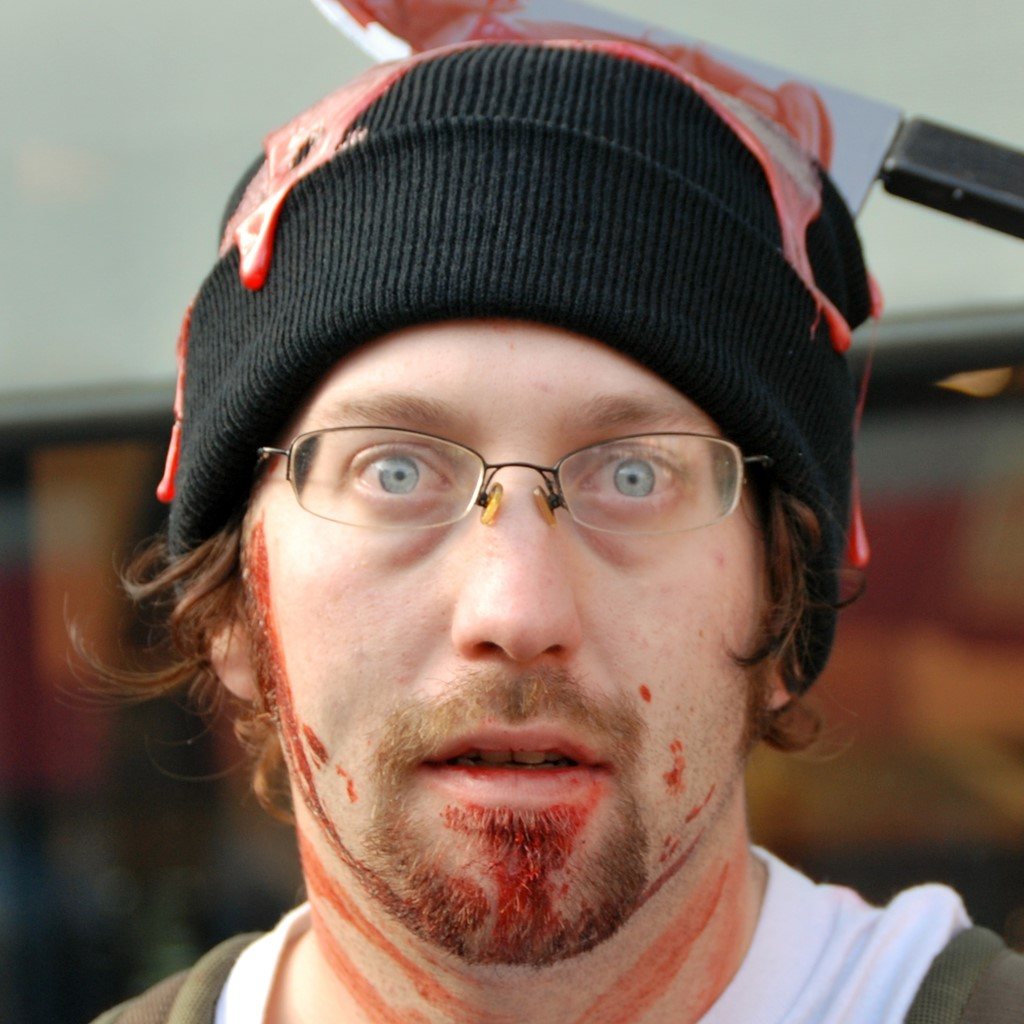sin_mascara: (214, 197, 787, 974)
